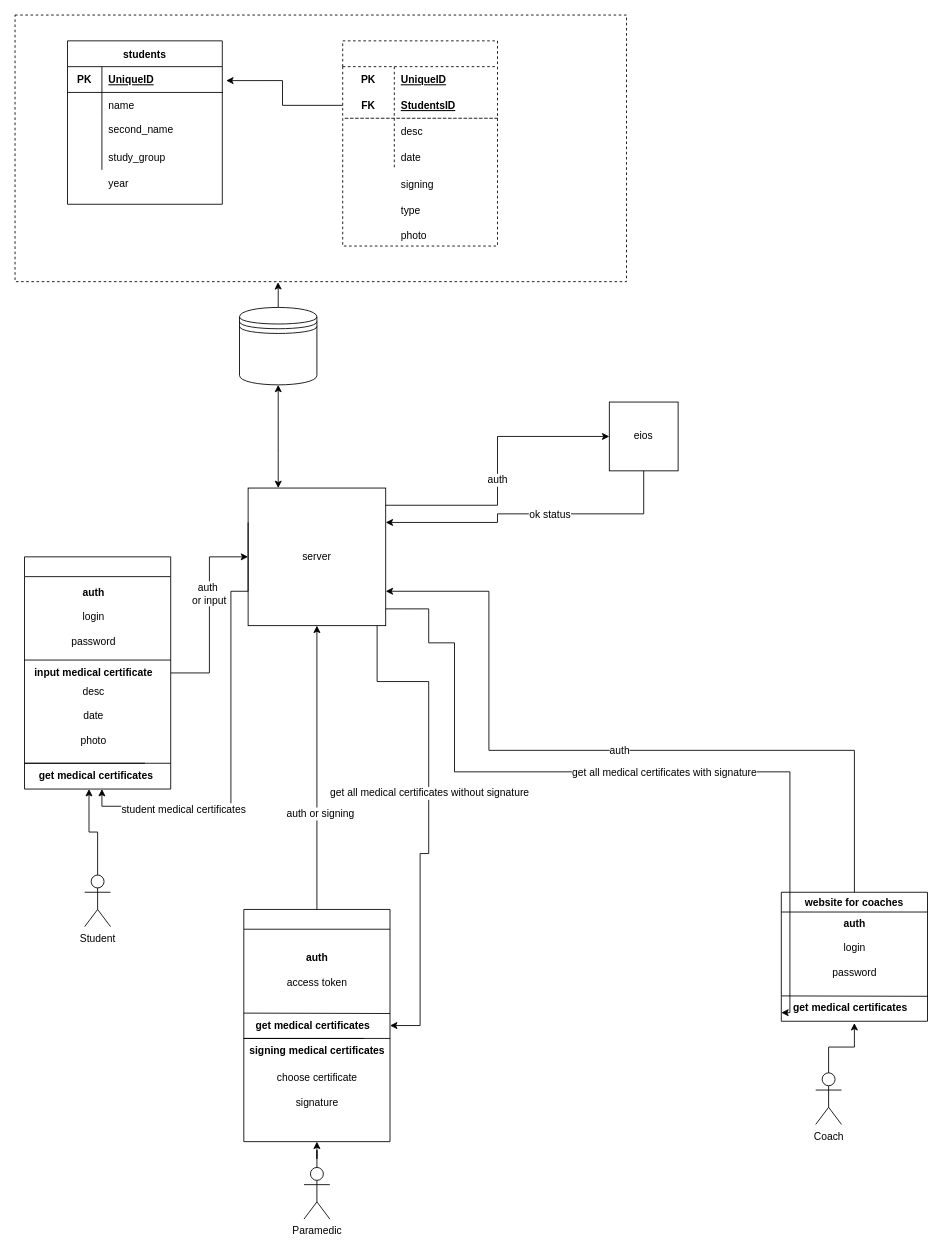
The diagram is 943 pixels wide and 1252 high, and some of its shapes have lost their labels. The shapes that lost their labels are listed below. From the top down, each one's box as (x1, y1, x2, y2) in pixels, then its label:
(342, 40, 498, 246): medical_certificates
(24, 556, 171, 789): website for students
(243, 909, 390, 1142): website for paramedics
